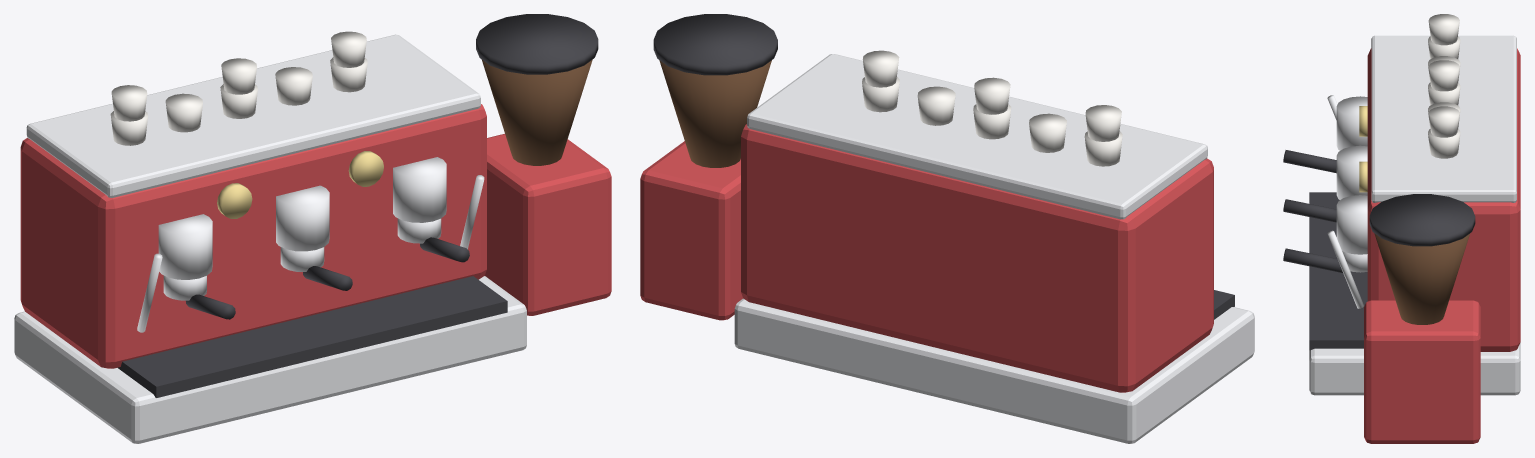
Rendered from espresso_machine.glb.
3 views of the same model, side by side, from view 1: azimuth 30°, elevation 25°; view 2: azimuth 150°, elevation 25°; view 3: azimuth 270°, elevation 25° (orthographic). The views are drawn at different scales.
Parts seen in each view (by area): view 1: Base; view 2: Base; view 3: Base.
Boxes of the visible parts, bbox=[...] form: Base: bbox=[14, 14, 611, 443]; Base: bbox=[640, 14, 1254, 443]; Base: bbox=[1283, 14, 1520, 443].
Bounding box in the file's own units: 1.42 × 0.731 × 0.6517.
